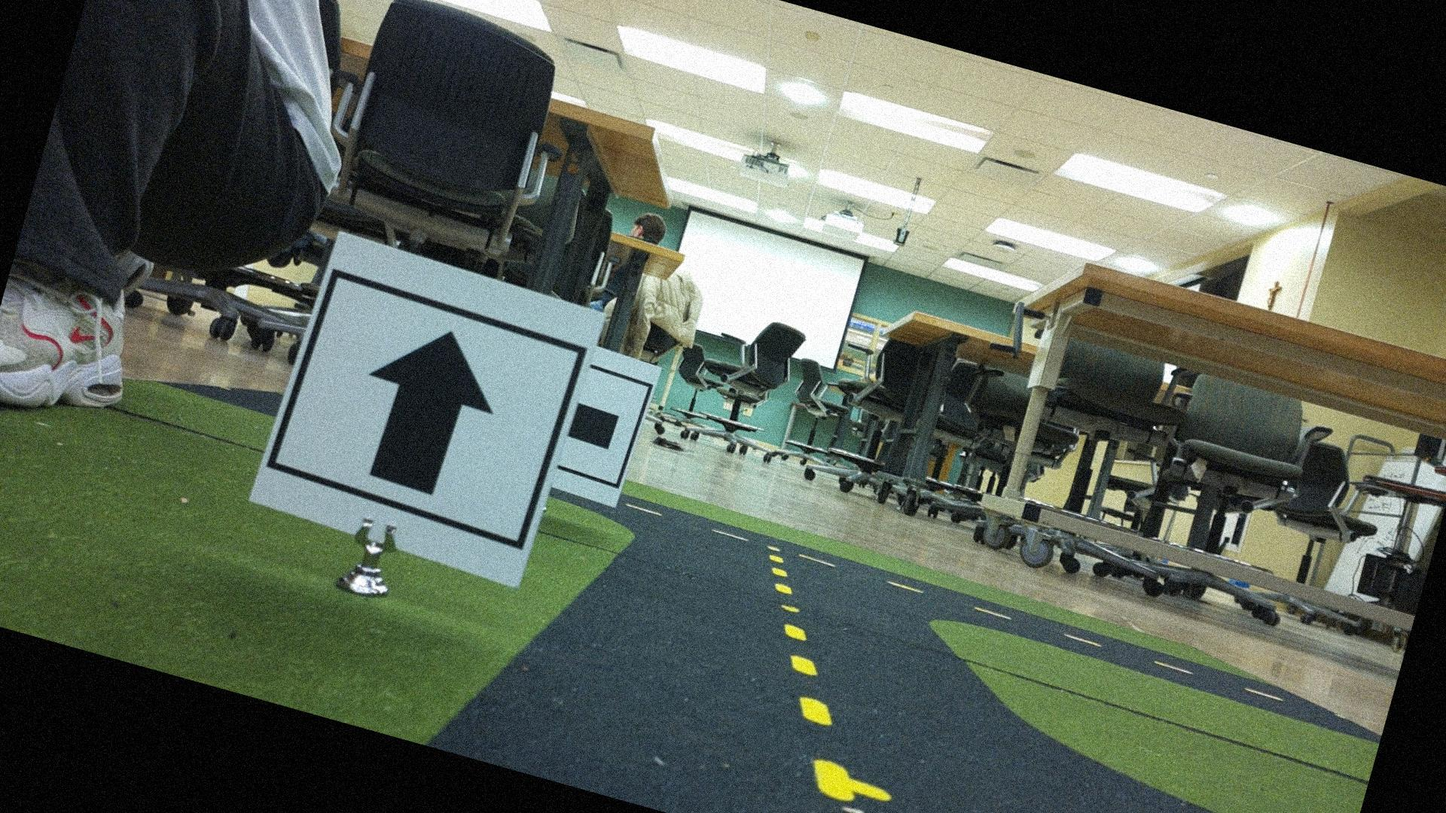gostraight: (262, 242, 589, 576)
yellowline: (706, 541, 914, 807)
